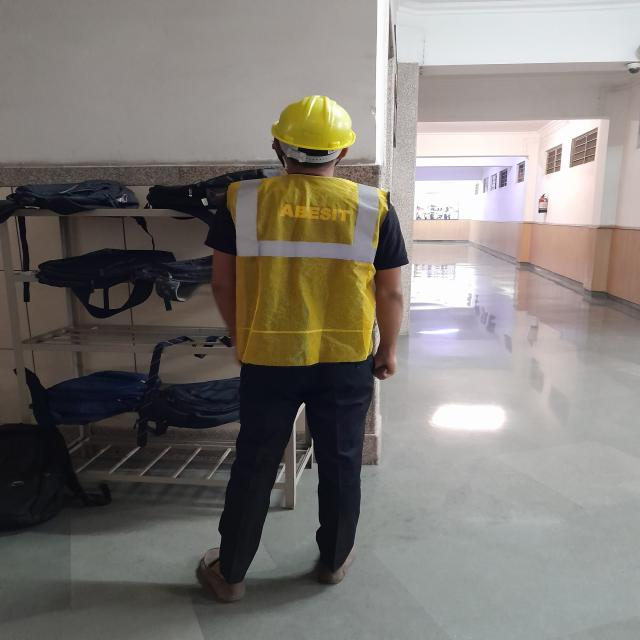safe: (212, 96, 408, 599)
